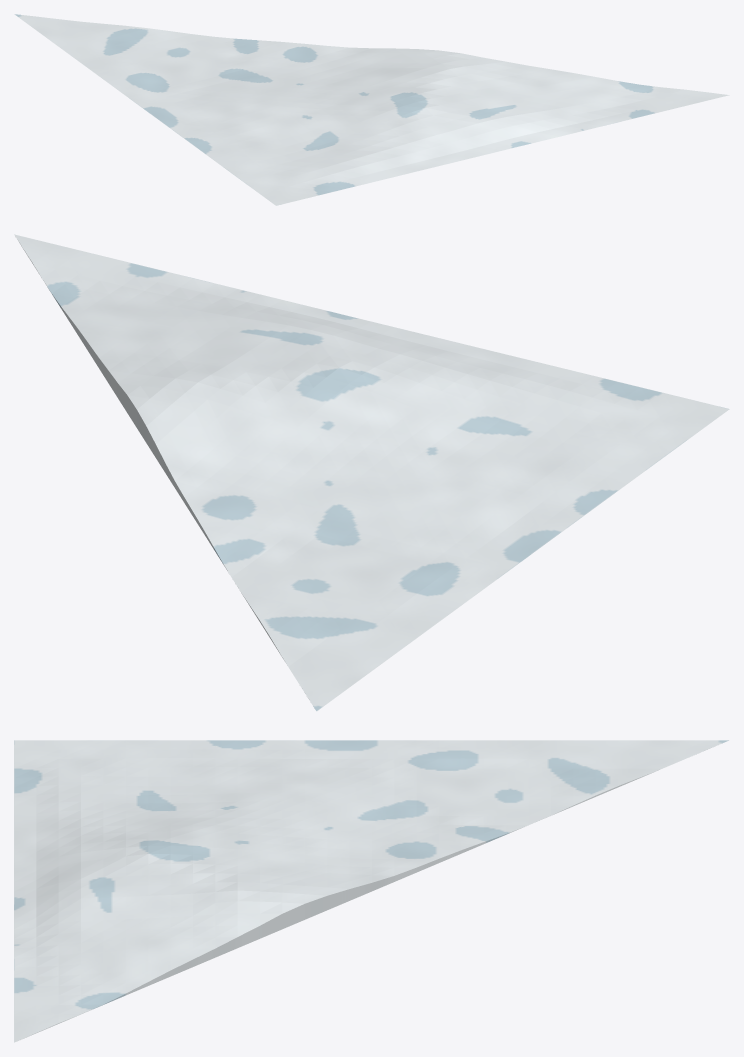
The model's file is Snow_Flat_05_NW.obj.
3 renders of one model, top to bottom at view 1: azimuth 30°, elevation 25°; view 2: azimuth 150°, elevation 25°; view 3: azimuth 270°, elevation 25°, orthographic. The views are drawn at different scales.
Size of the model in its own units: 10 by 0.306 by 10.
Materials: 1 (1 with a texture image).
